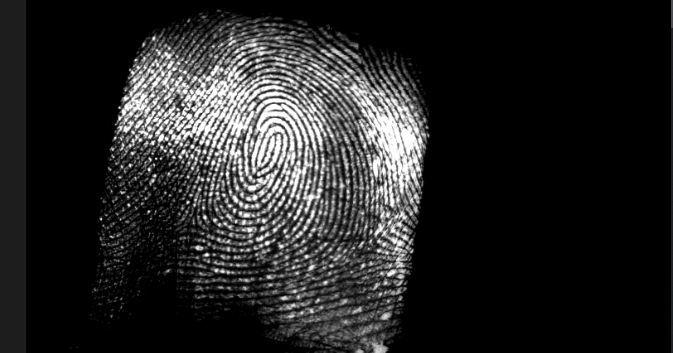deltas: (340, 219, 389, 267), (169, 196, 212, 237)
nucleo: (248, 115, 286, 172)
